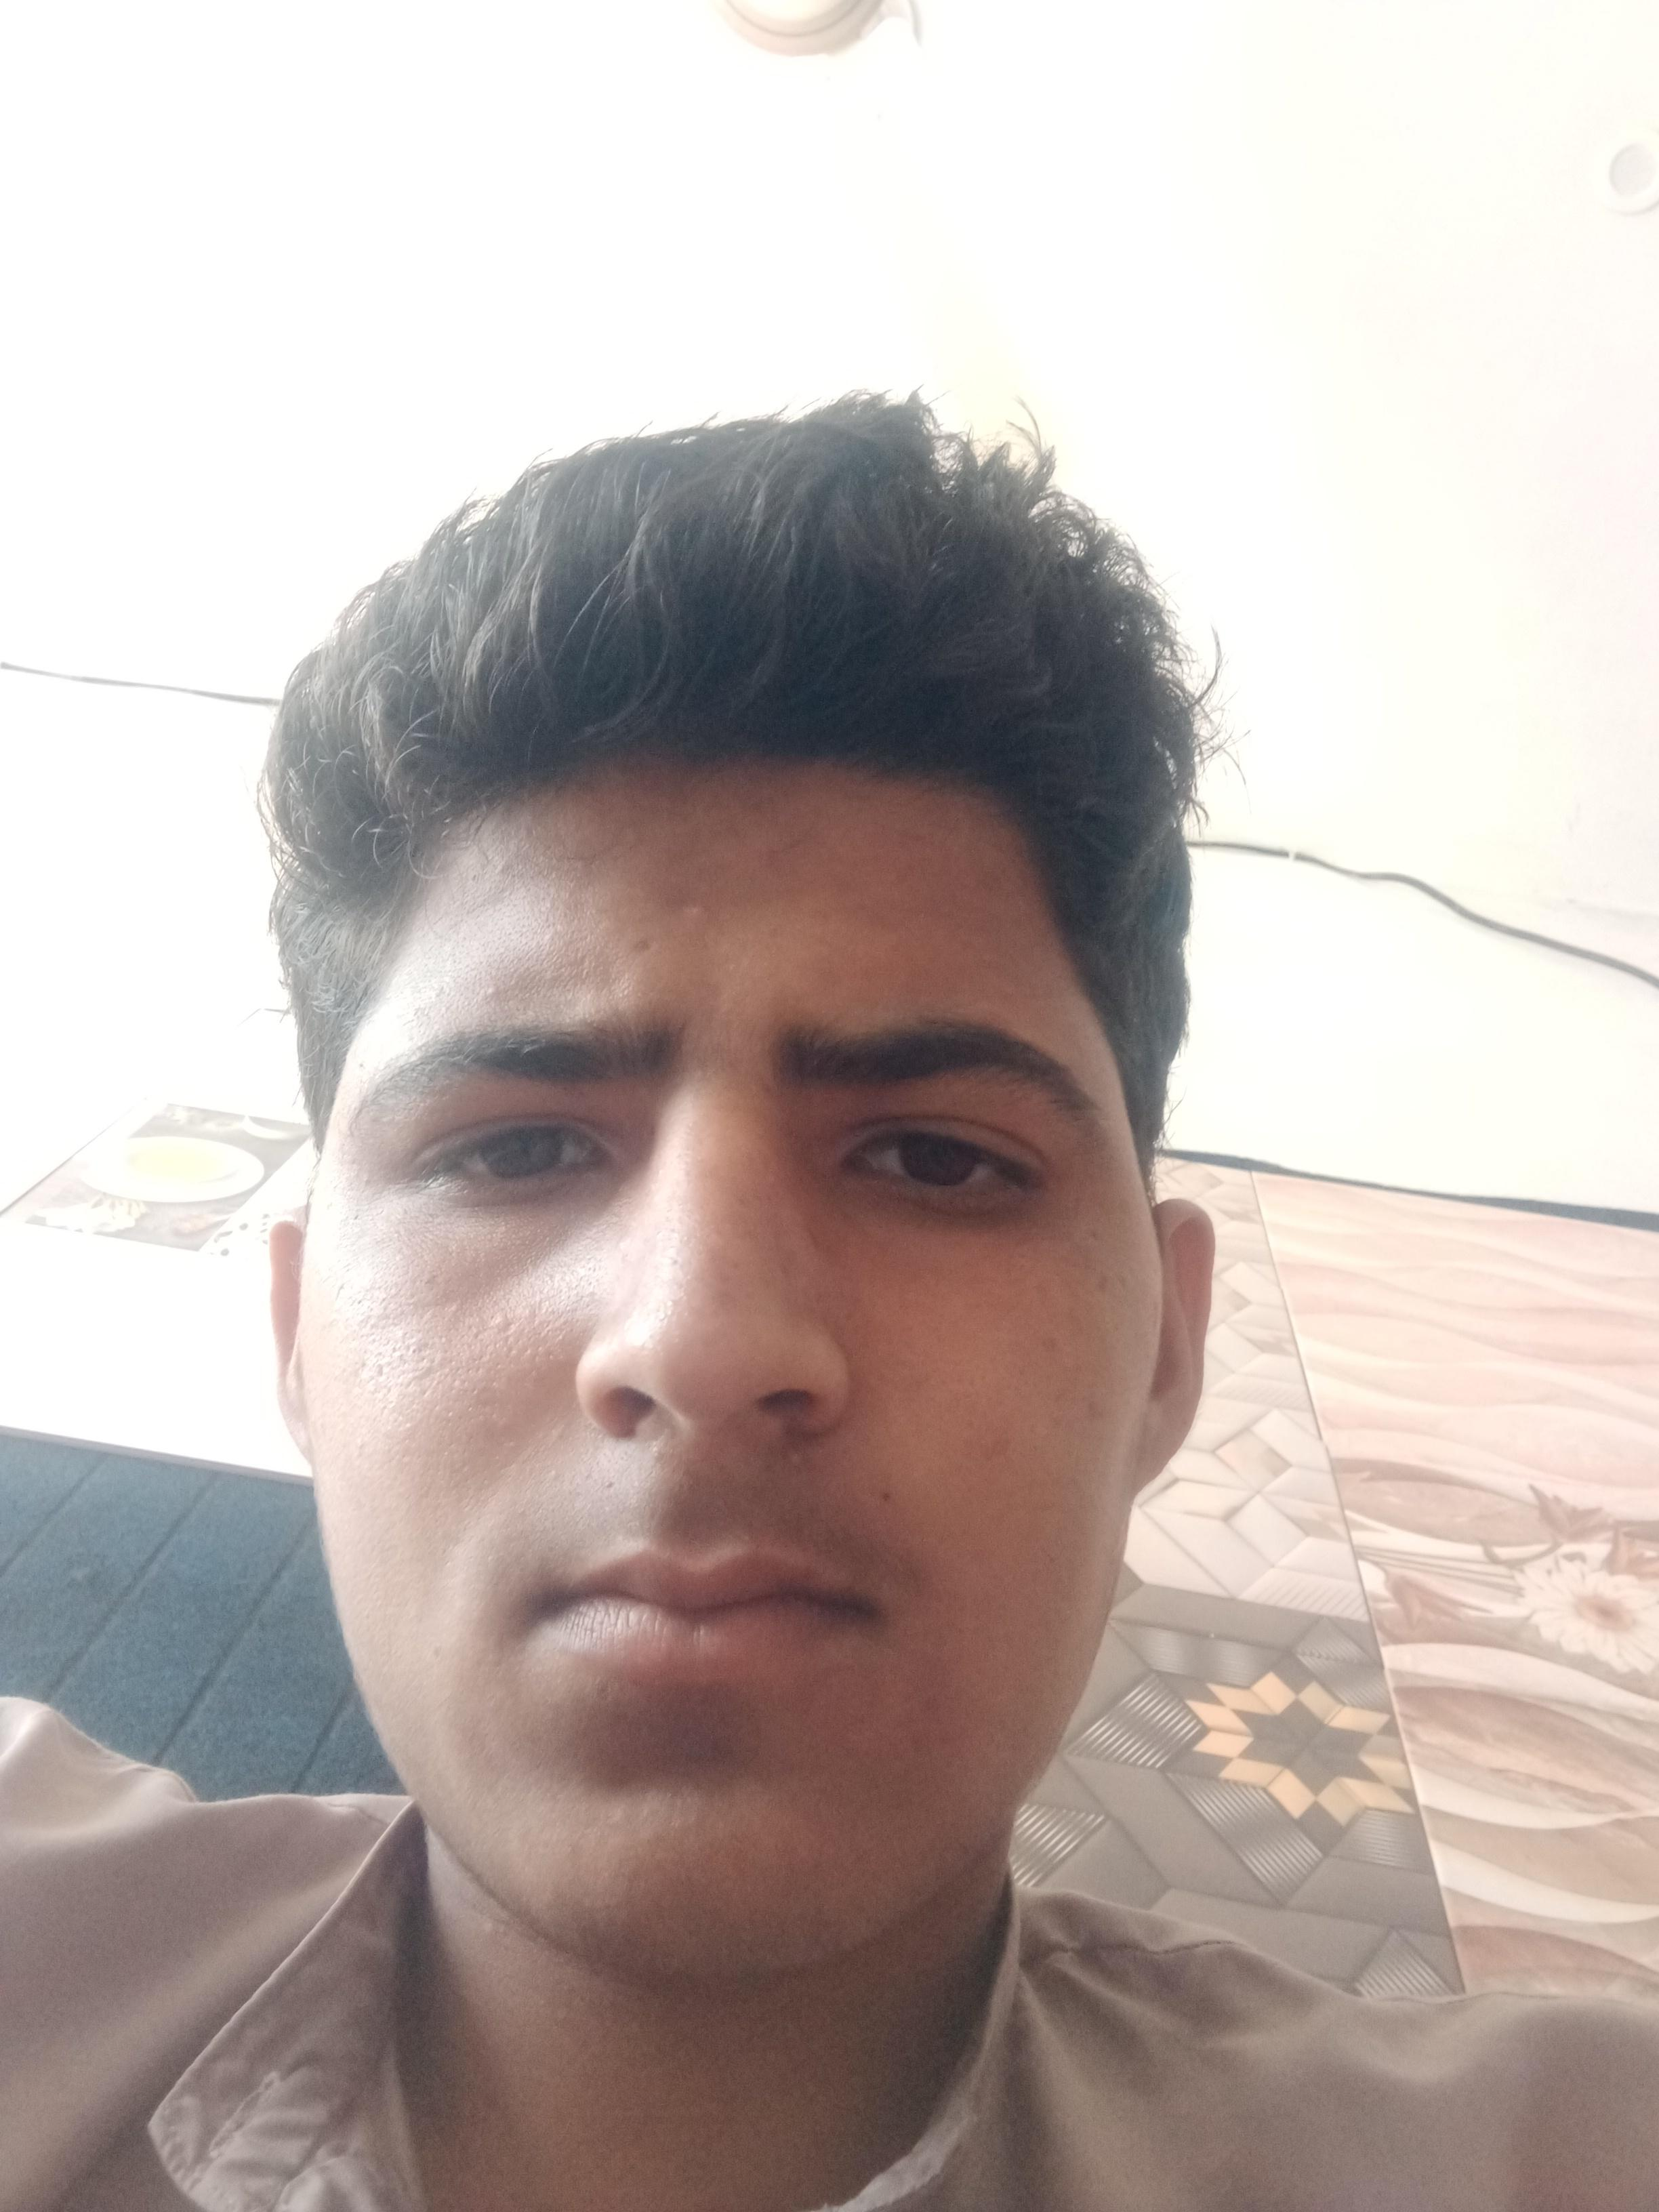Acne: (871, 1480, 918, 1519), (681, 894, 720, 935), (472, 974, 519, 1007), (1072, 1395, 1114, 1423), (788, 1451, 816, 1477)
Englarged-Pores: (361, 1263, 568, 1428)
